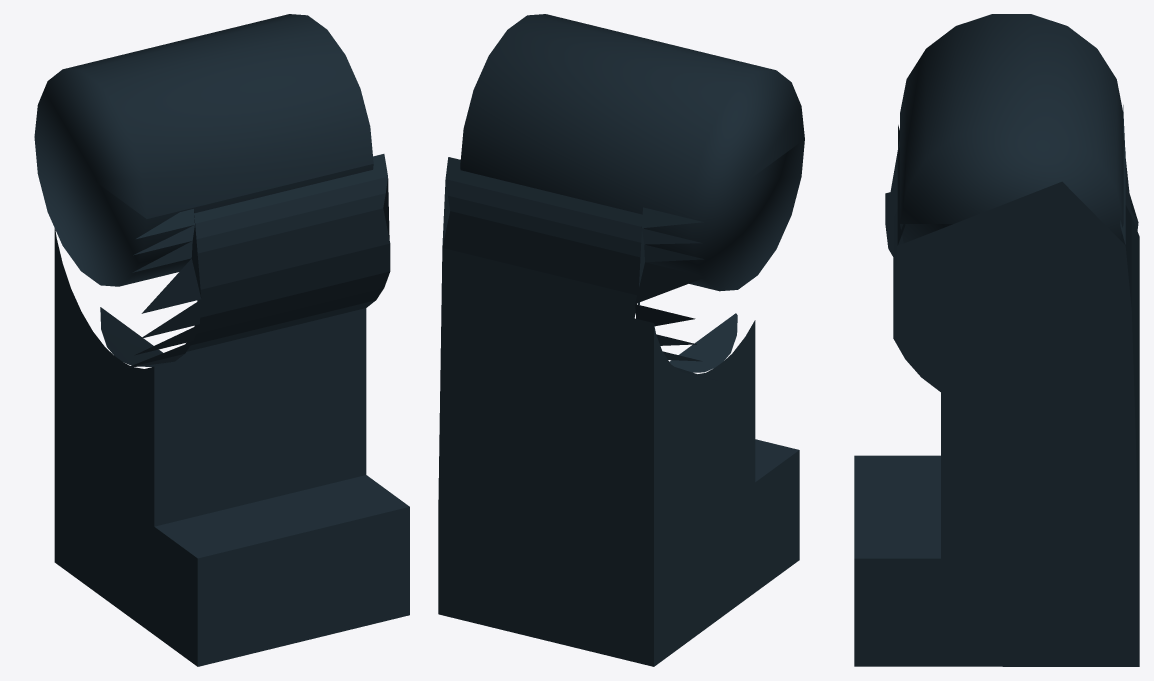
File: legR.glb
3 renders of one model, left to right at view 1: azimuth 30°, elevation 25°; view 2: azimuth 150°, elevation 25°; view 3: azimuth 270°, elevation 25°, orthographic. The views are drawn at different scales.
Visible parts, largest first — view 1: dex_legR; view 2: dex_legR; view 3: dex_legR.
Boxes of the visible parts, x1,y1,x2,y2 form: dex_legR: [34, 14, 409, 666]; dex_legR: [438, 14, 804, 666]; dex_legR: [854, 14, 1139, 666].
Bounding box in the file's own units: 0.3561 × 0.7237 × 0.3488.
